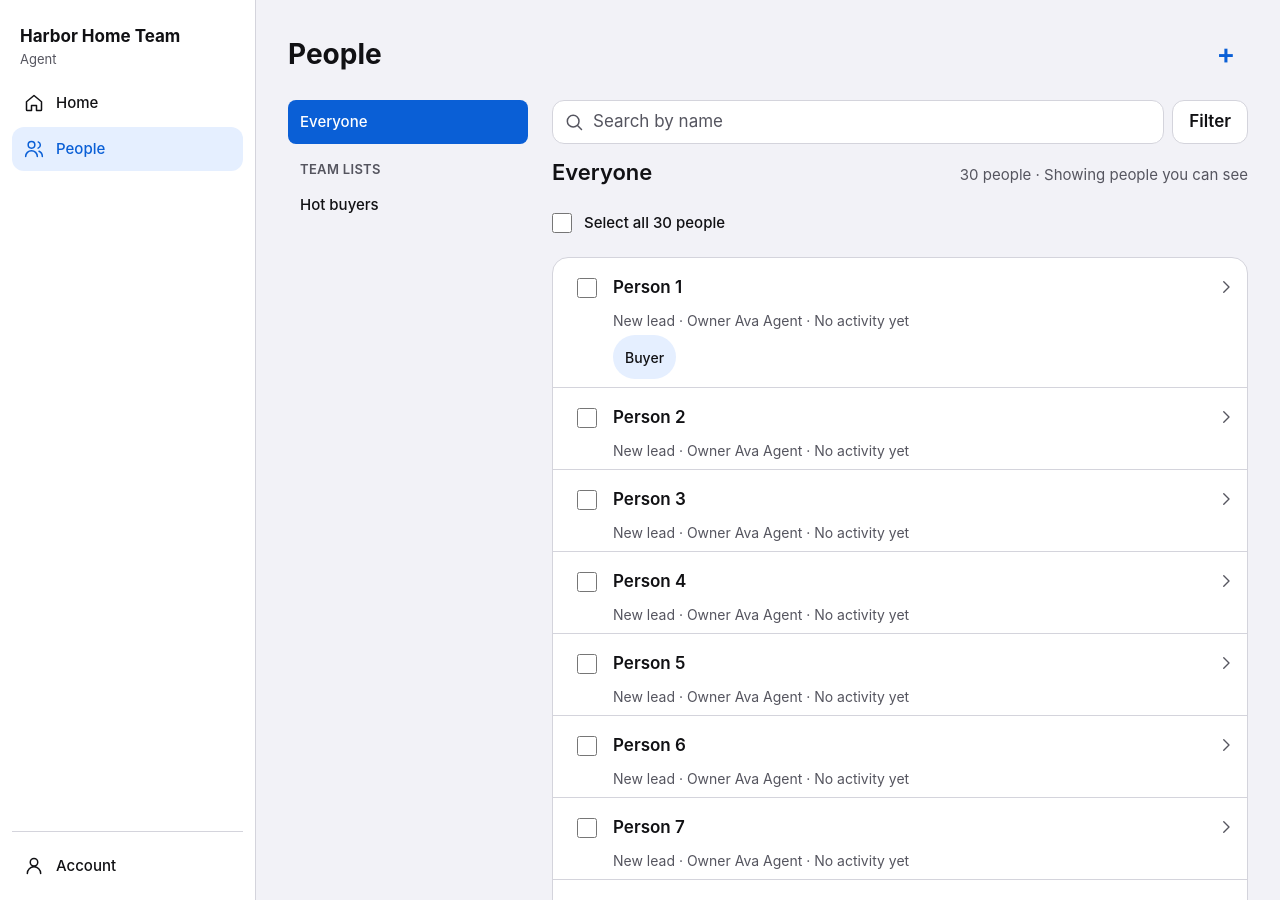
Test: People page (module 61) › see everyone with a tag: tapping a chip is 1 tap and runs an unsaved tag list
The image size is (1280, 900).
Click the button with aria-label "Tag Buyer, show everyone with it" at (644, 357), box [613,335,676,379]
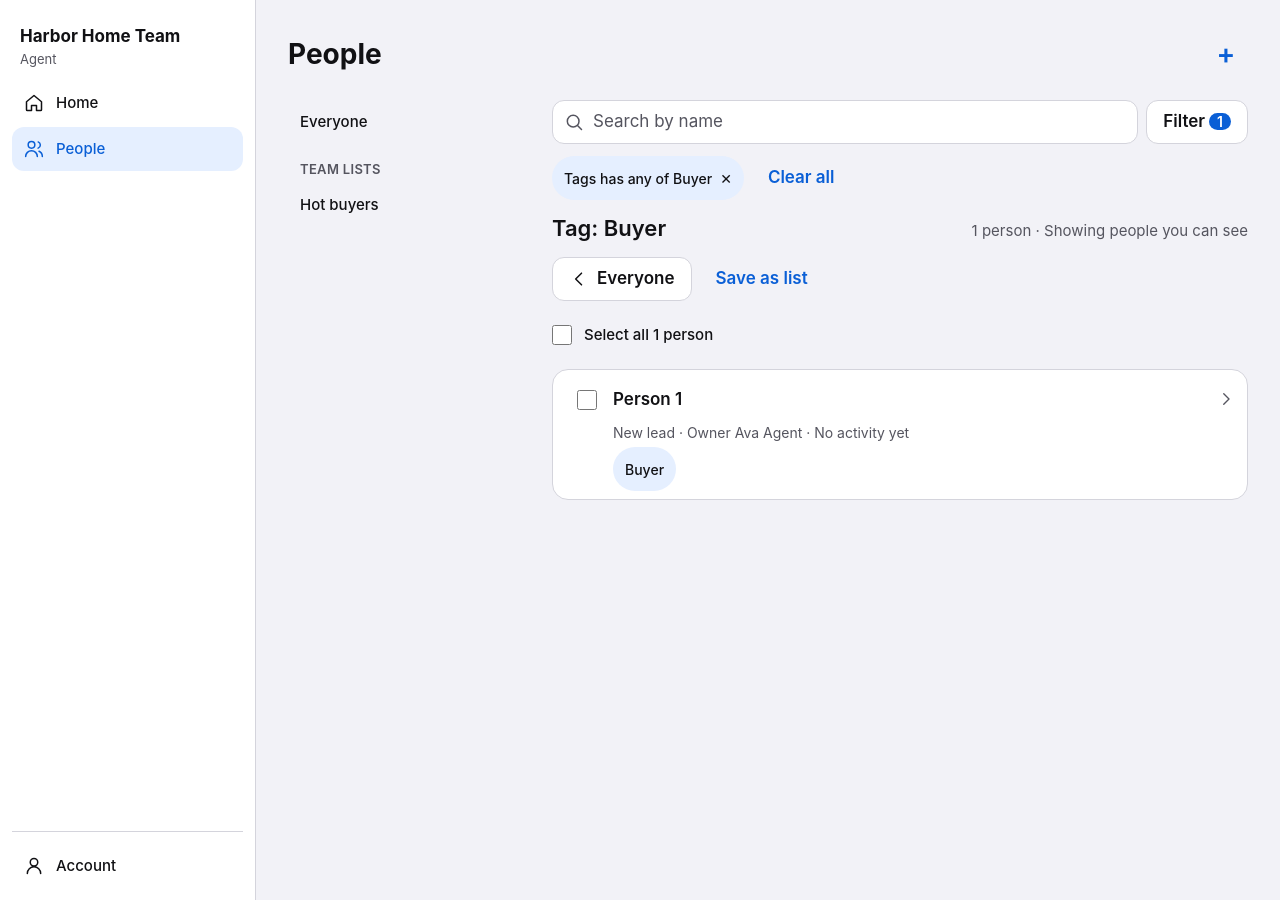
Expected: the heading "Tag: Buyer" is shown, [552,212,666,245]
Expected: the text "1 person · Showing people you can see" is shown, [972,220,1248,242]
